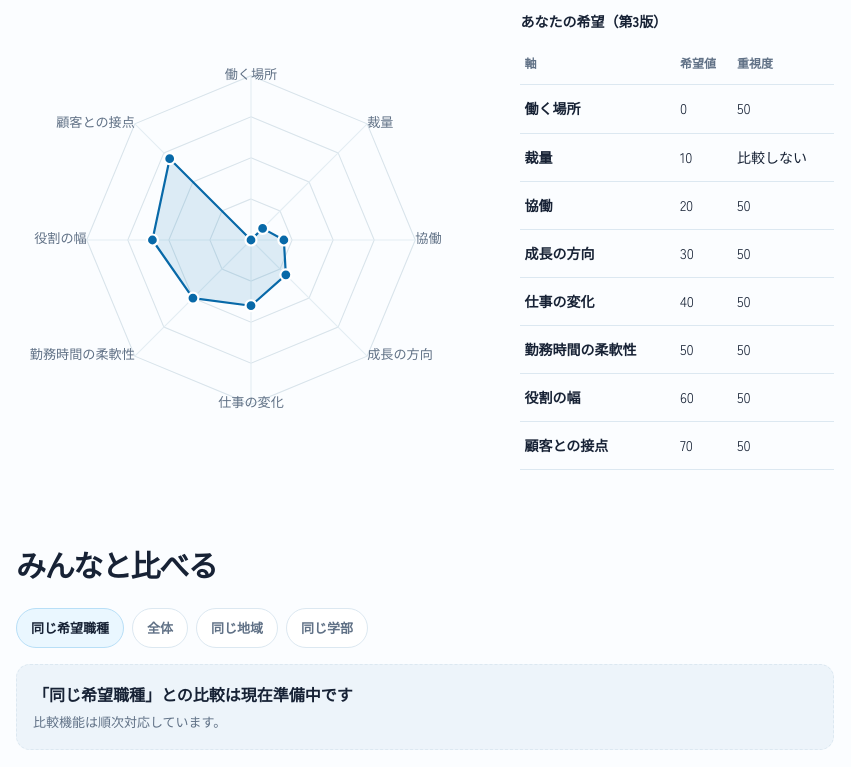
Test: own axes render as a radar and a table; cohorts are not faked
(page scrolled)
Expected: the picture named "あなたの希望（第3版）" is shown, [21,10,481,470]
Click the button "全体".
click(160, 628)  # box [132,608,188,648]
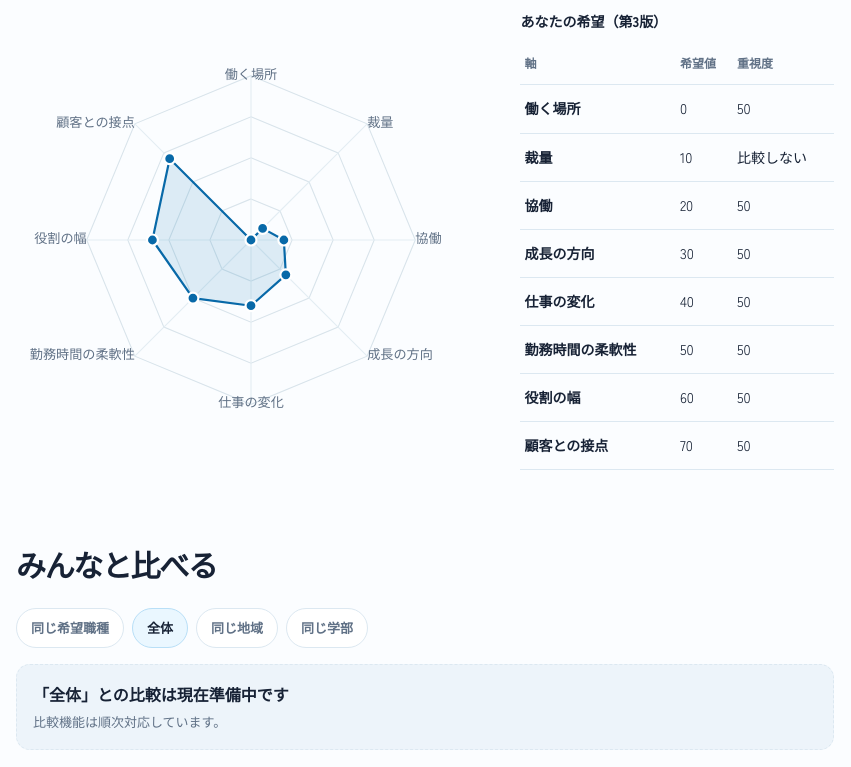
Expected: the element showing "「全体」との比較は現在準備中です 比較機能は順次対応しています。" is shown, [16,664,834,750]
